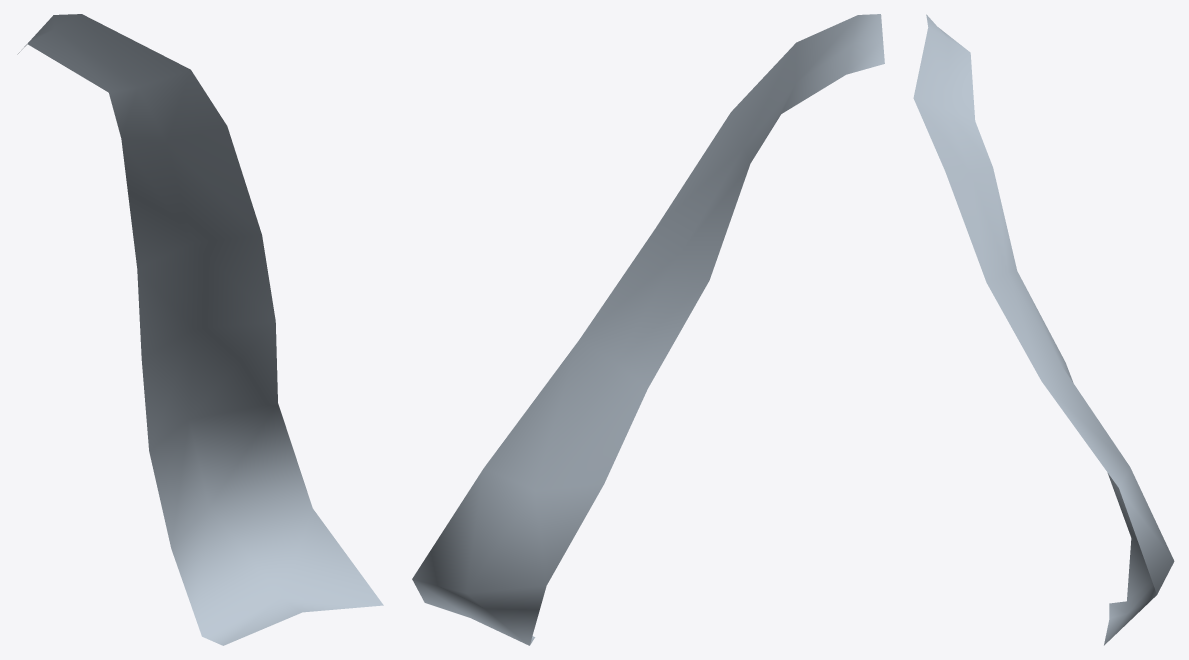
File: oblique-popliteal-ligament-r.glb
3 views of the same model, side by side, from view 1: azimuth 30°, elevation 25°; view 2: azimuth 150°, elevation 25°; view 3: azimuth 270°, elevation 25° (orthographic). The views are drawn at different scales.
Visible parts, largest first — view 1: Oblique popliteal ligament.r; view 2: Oblique popliteal ligament.r; view 3: Oblique popliteal ligament.r.
Boxes of the visible parts, x1,y1,x2,y2 form: Oblique popliteal ligament.r: (17,14,383,645); Oblique popliteal ligament.r: (412,14,884,645); Oblique popliteal ligament.r: (913,14,1174,645).
Bounding box in the file's own units: 0.0456 × 0.0715 × 0.0342.
